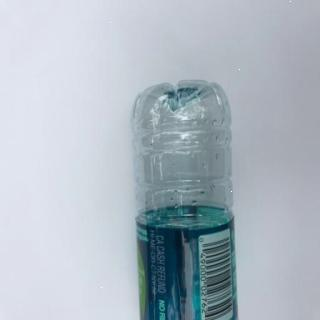Plastic-bottle: (129, 77, 241, 320)
